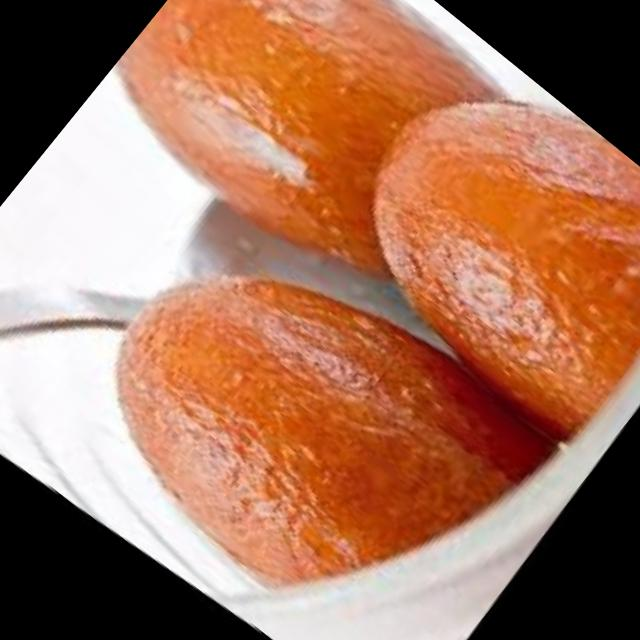gulab_jamun: (38, 186, 571, 640), (289, 35, 640, 478), (79, 0, 540, 333)
